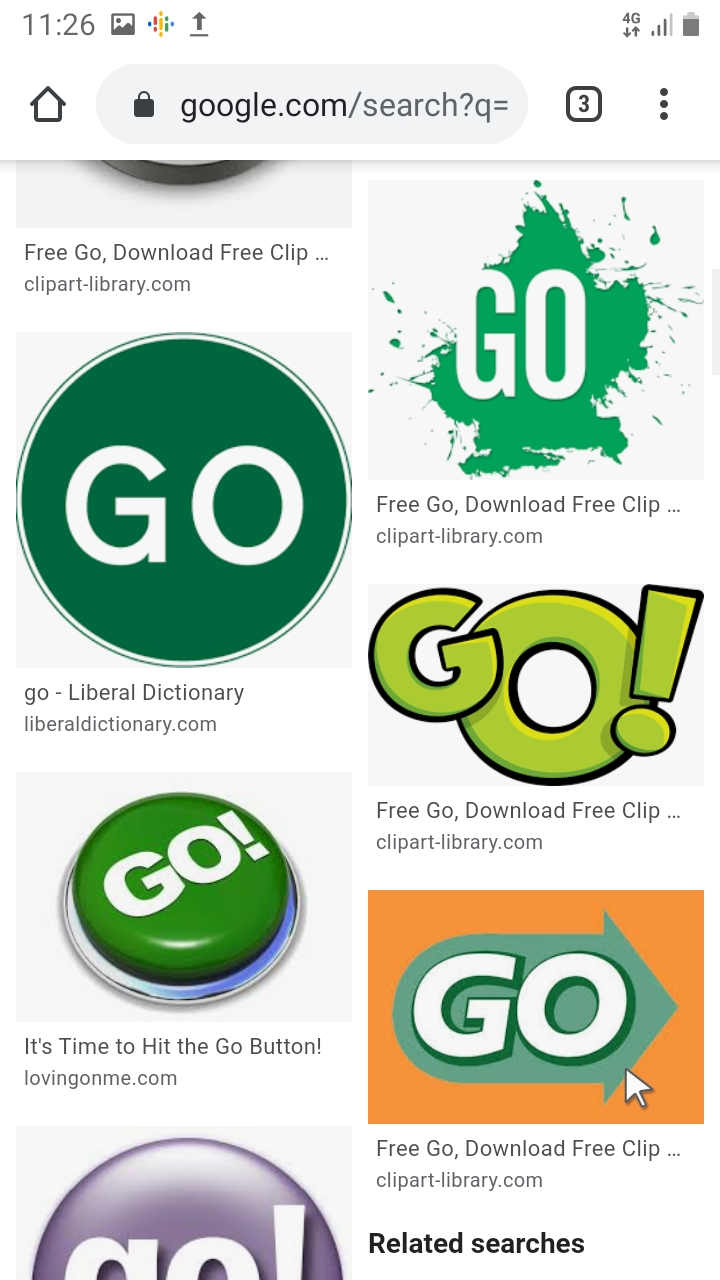go: (13, 329, 347, 676), (433, 229, 637, 451), (410, 941, 621, 1086), (62, 808, 251, 959)
